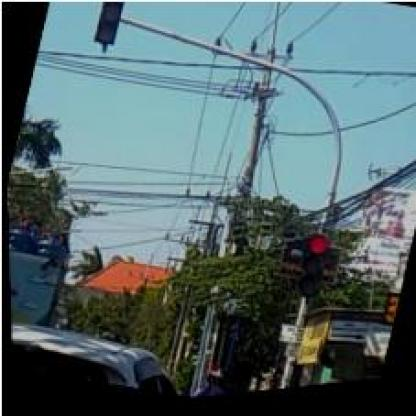red: (292, 237, 331, 305), (89, 0, 131, 48)
